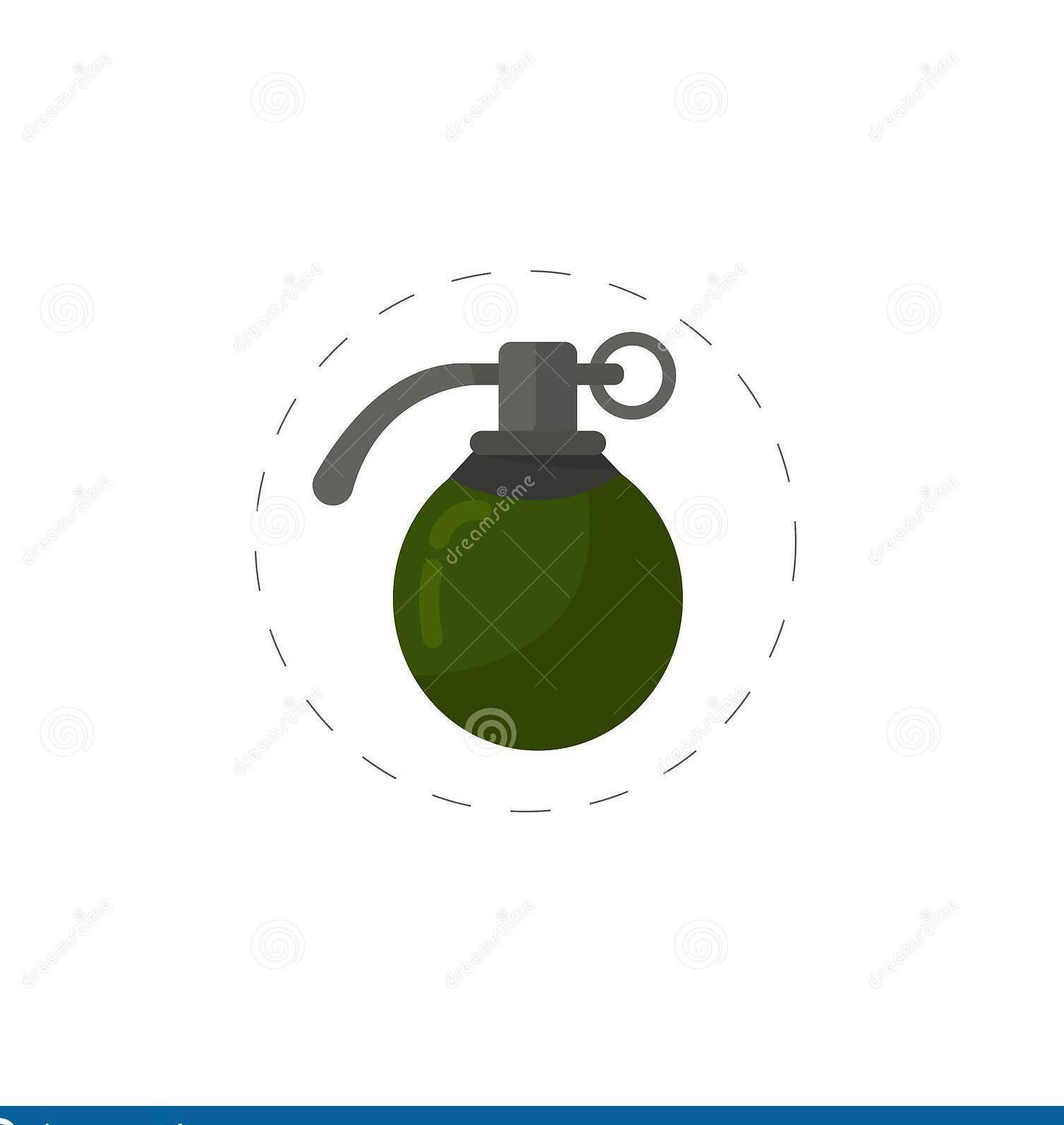Grenade: (313, 329, 684, 751)
